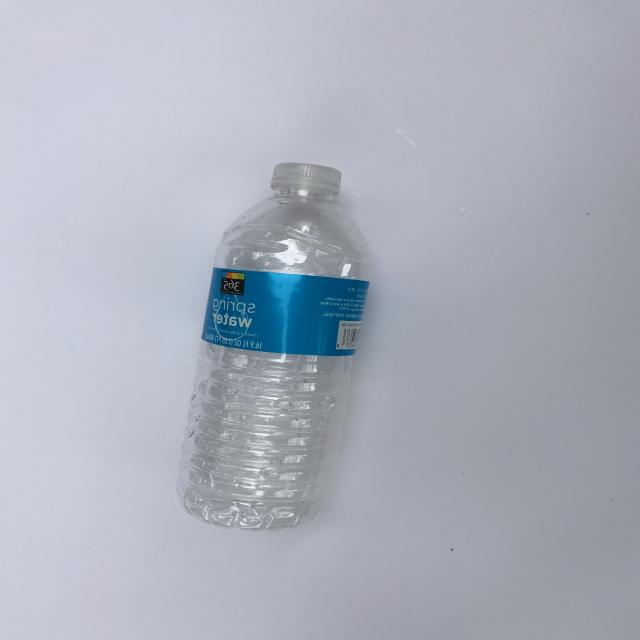plastic: (176, 161, 373, 531)
